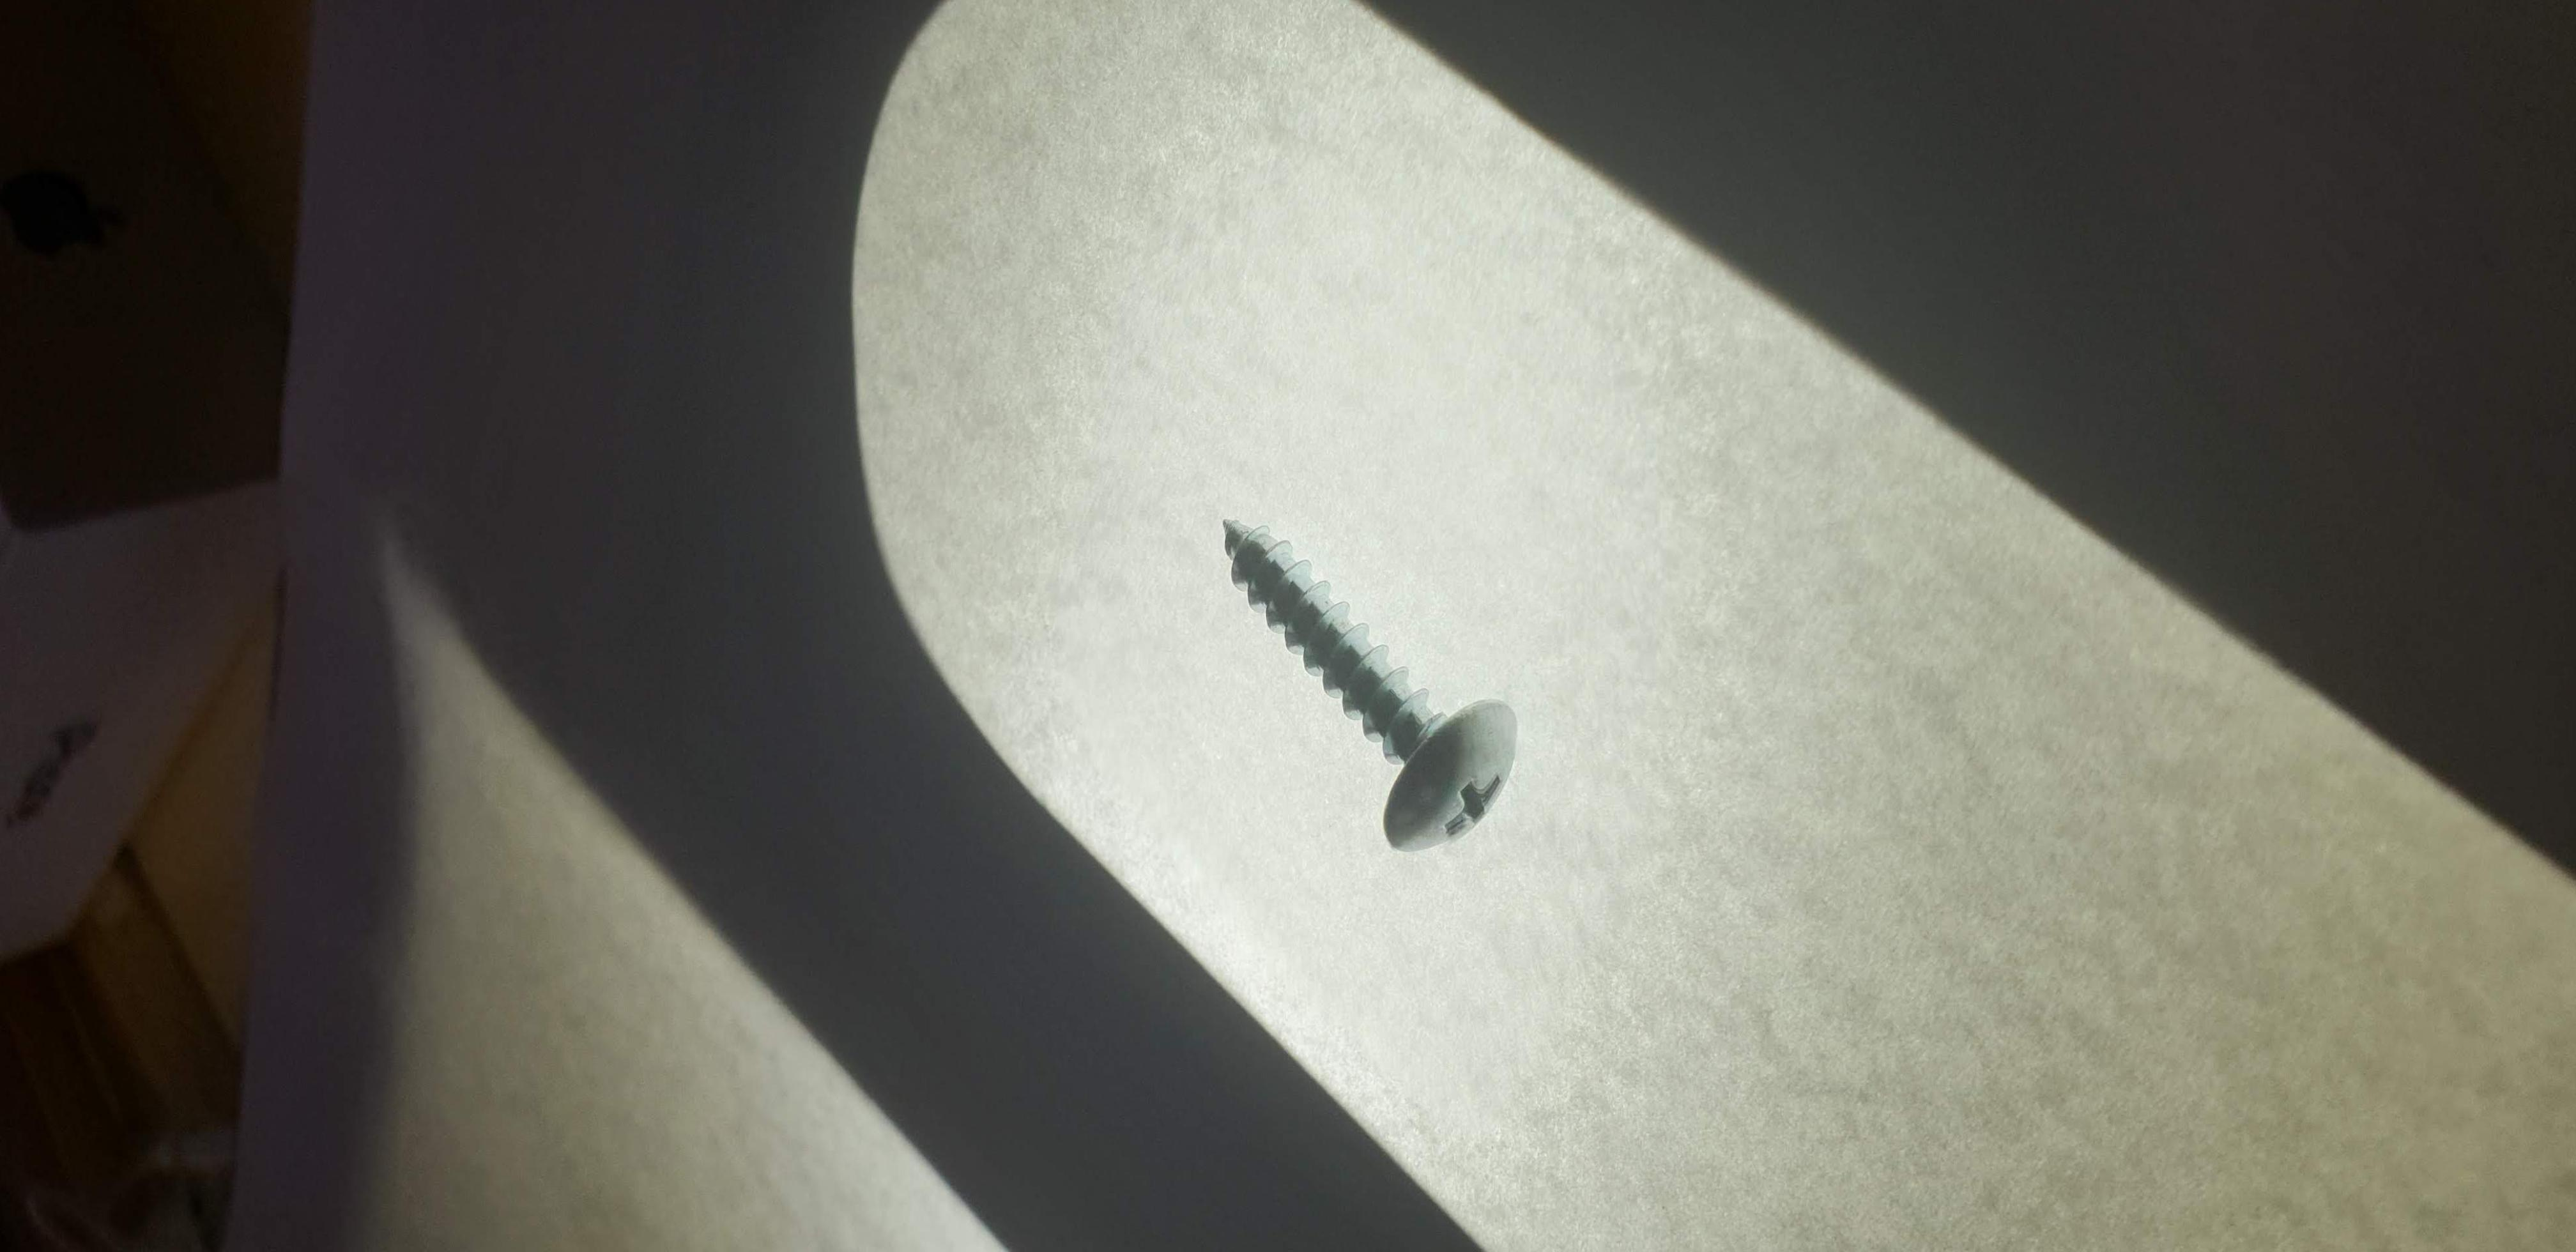S002: (1157, 465, 1594, 907)
